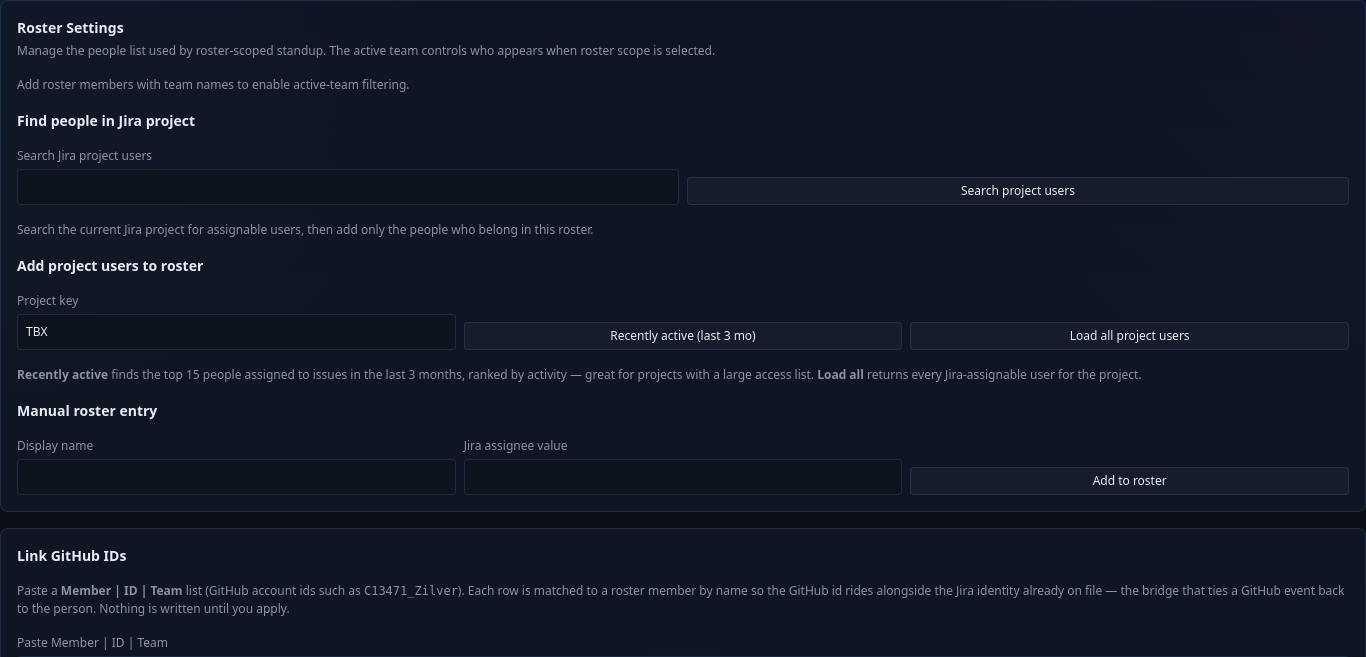
Test: RosterTab › shows a no-users status message when all Jira user enumeration endpoints return empty lists
Click the button "Load all project users". click: {"x": 1130, "y": 336}
box: x1=910 y1=322 x2=1349 y2=350
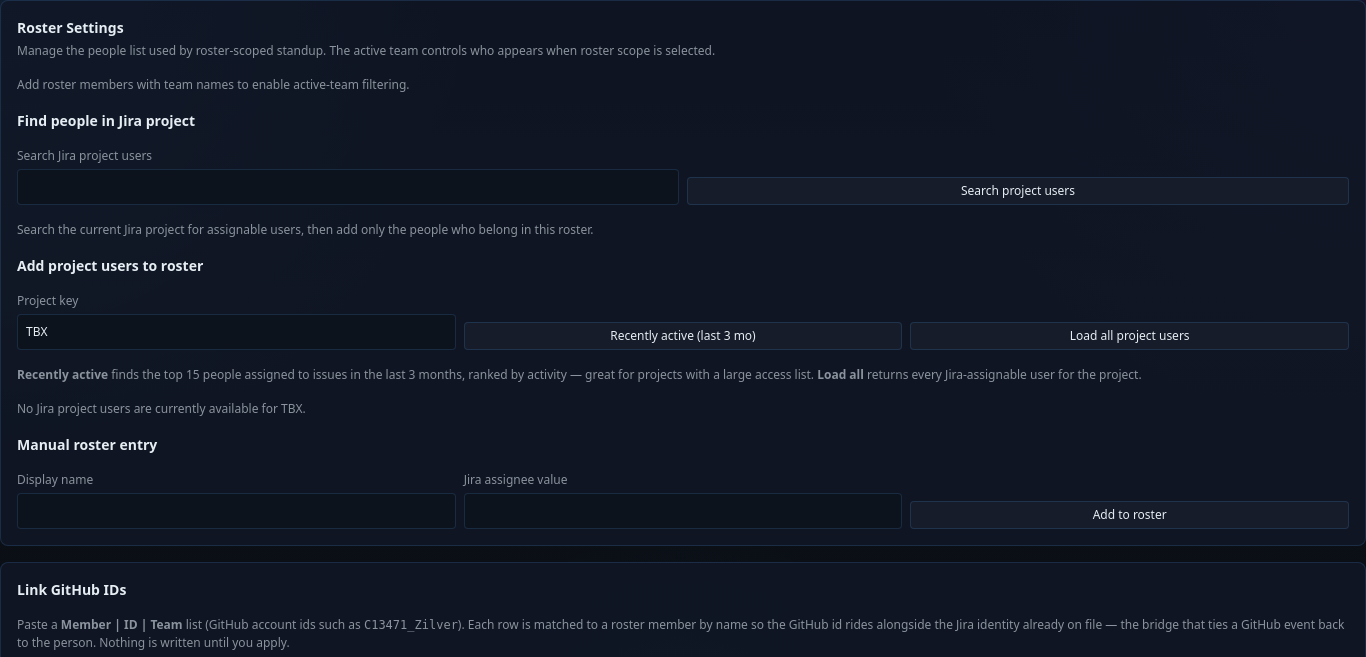
Result: the text "No Jira project users are currently available for TBX." is shown at x1=17 y1=400 x2=306 y2=417
